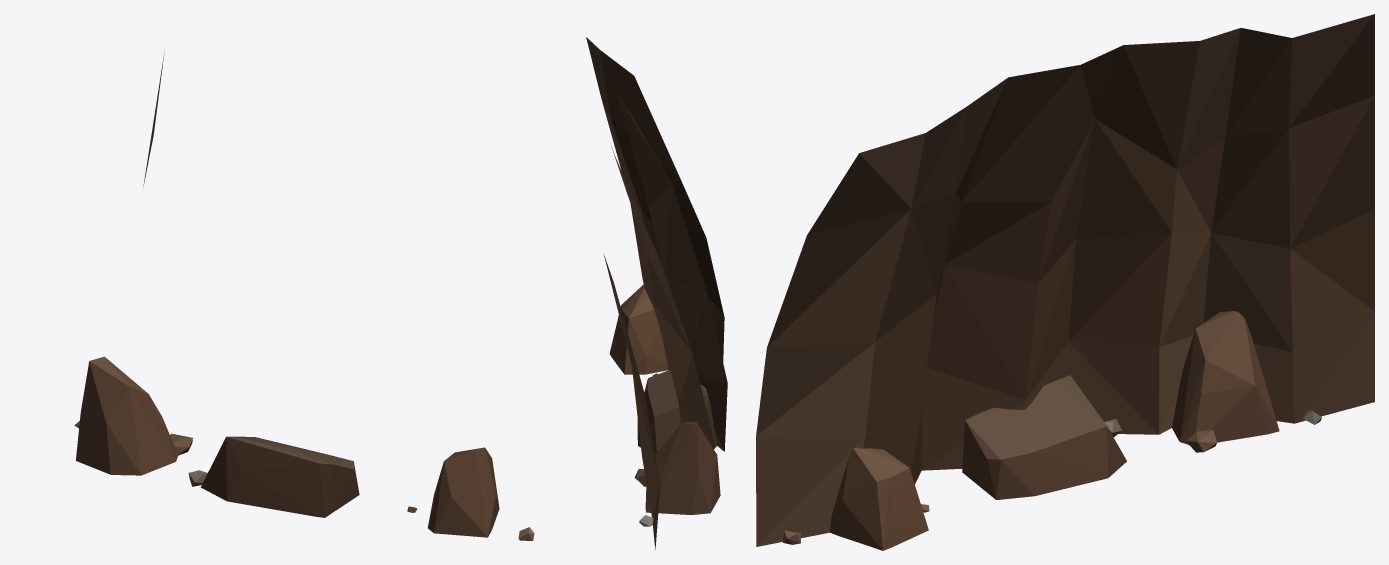
Rendered from tl_env_cave_wall_03_v01.glb.
3 views of the same model, side by side, from view 1: azimuth 30°, elevation 25°; view 2: azimuth 150°, elevation 25°; view 3: azimuth 270°, elevation 25° (orthographic). The views are drawn at different scales.
Visible parts, largest first — view 1: tl_env_cave_wall_03_v01; view 2: tl_env_cave_wall_03_v01; view 3: tl_env_cave_wall_03_v01.
Boxes of the visible parts, <box> form: tl_env_cave_wall_03_v01: <box>74,49,534,540</box>; tl_env_cave_wall_03_v01: <box>586,37,727,549</box>; tl_env_cave_wall_03_v01: <box>756,14,1374,550</box>.
Bounding box in the file's own units: 11.84 × 13.95 × 17.87.
